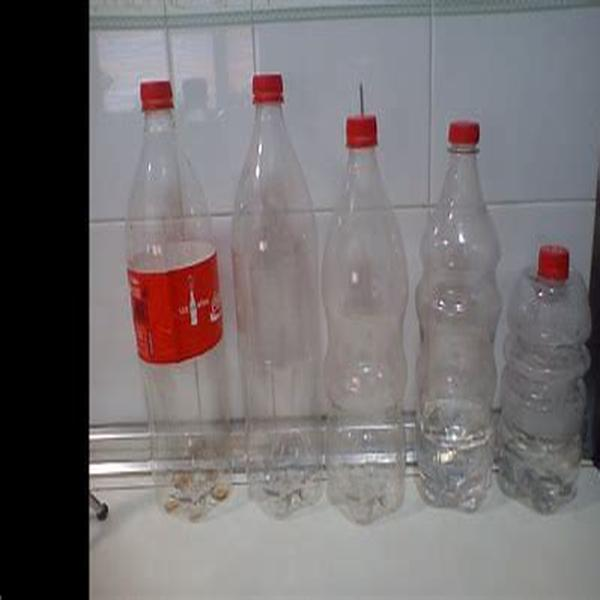tutuma: (123, 74, 219, 512), (229, 71, 316, 517), (324, 105, 412, 528), (420, 108, 497, 517), (506, 220, 590, 523)
